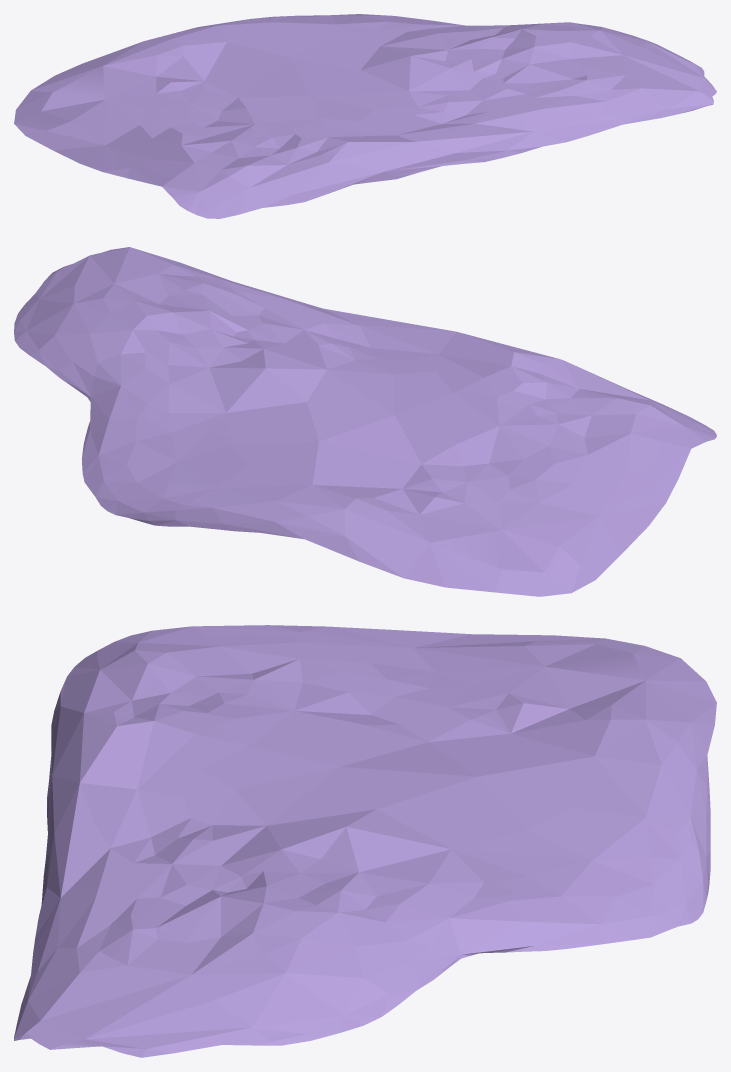
Rendered from ground.078.fbx.
3 renders of one model, top to bottom at view 1: azimuth 30°, elevation 25°; view 2: azimuth 150°, elevation 25°; view 3: azimuth 270°, elevation 25°, orthographic. The views are drawn at different scales.
Visible parts, largest first — view 1: ground_078; view 2: ground_078; view 3: ground_078.
Part boxes in pixels (x1,y1,x2,y2): ground_078: (14,14,716,218); ground_078: (14,247,716,596); ground_078: (14,625,716,1057).
Size of the model in its own units: 30930 by 2630 by 20015.
